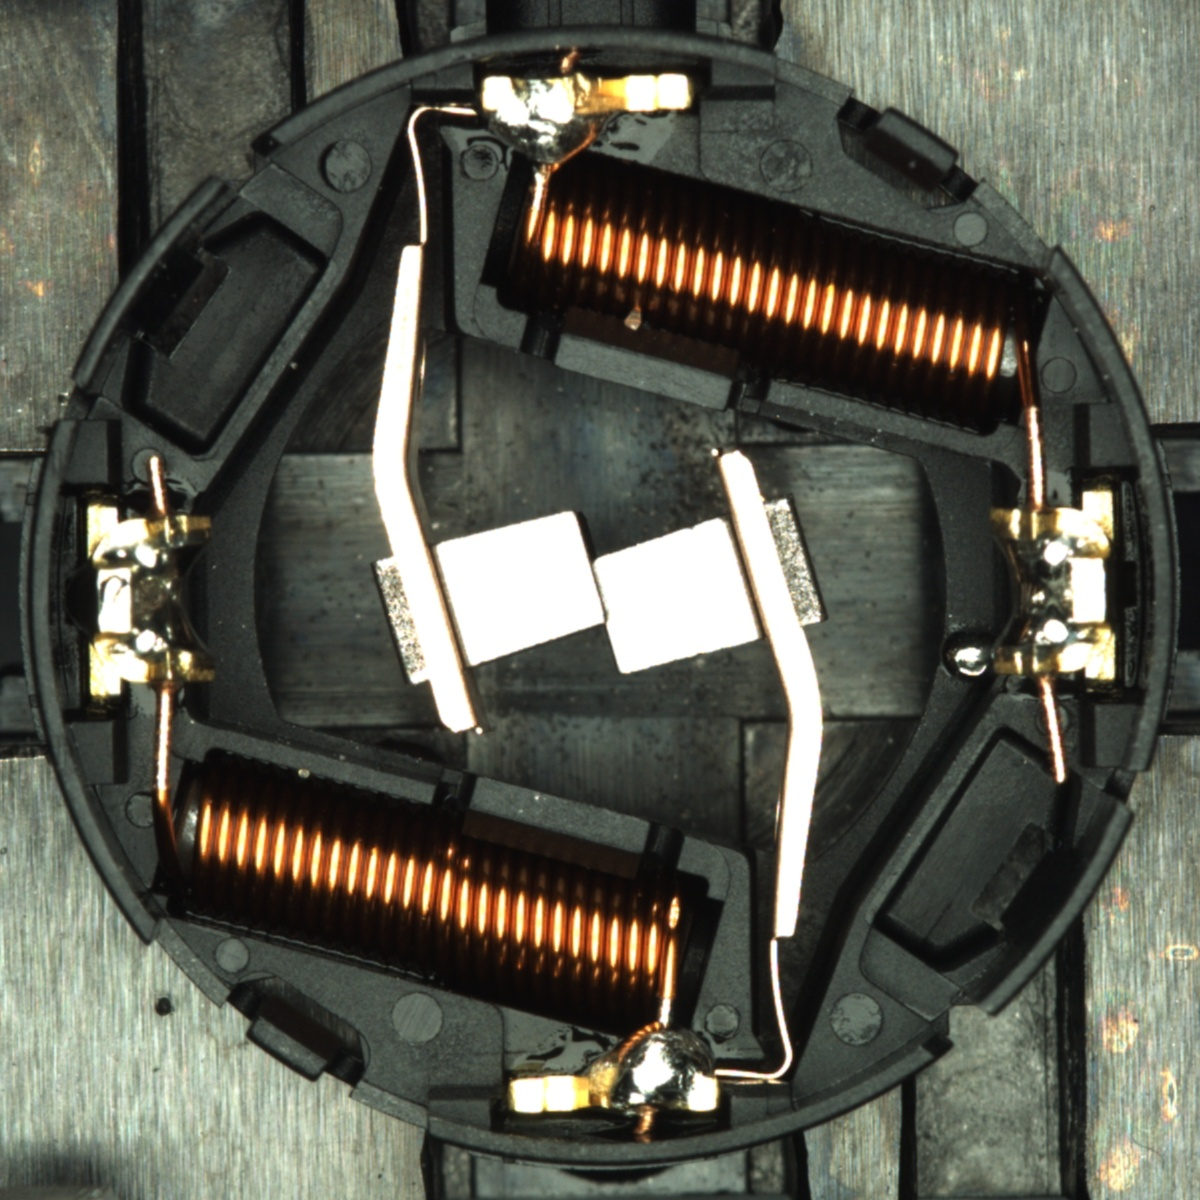1: (711, 929, 941, 1153), (253, 31, 481, 255)
2: (711, 31, 941, 255), (253, 929, 481, 1153)
3: (23, 255, 253, 479), (941, 704, 1169, 929)
4: (711, 704, 941, 929), (253, 255, 481, 479)
5: (481, 143, 711, 367), (481, 816, 711, 1041)
6: (711, 255, 941, 479), (253, 704, 481, 929)
7: (23, 704, 253, 929), (941, 255, 1169, 479)
cacbon: (396, 499, 797, 685)
chau_dien: (79, 498, 219, 700)
hat_chi: (941, 629, 1001, 686)
tay_choi: (480, 71, 696, 173), (508, 1020, 722, 1118)
thanh_de: (954, 788, 1142, 1031), (59, 165, 243, 403)
vun_chi: (942, 627, 1001, 686)
